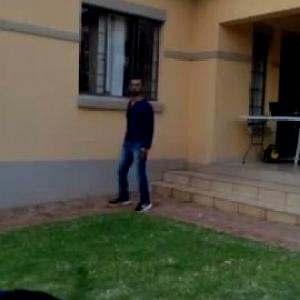follow: (114, 70, 158, 214)
